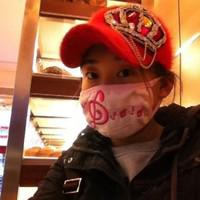OK: (81, 52, 152, 137)
